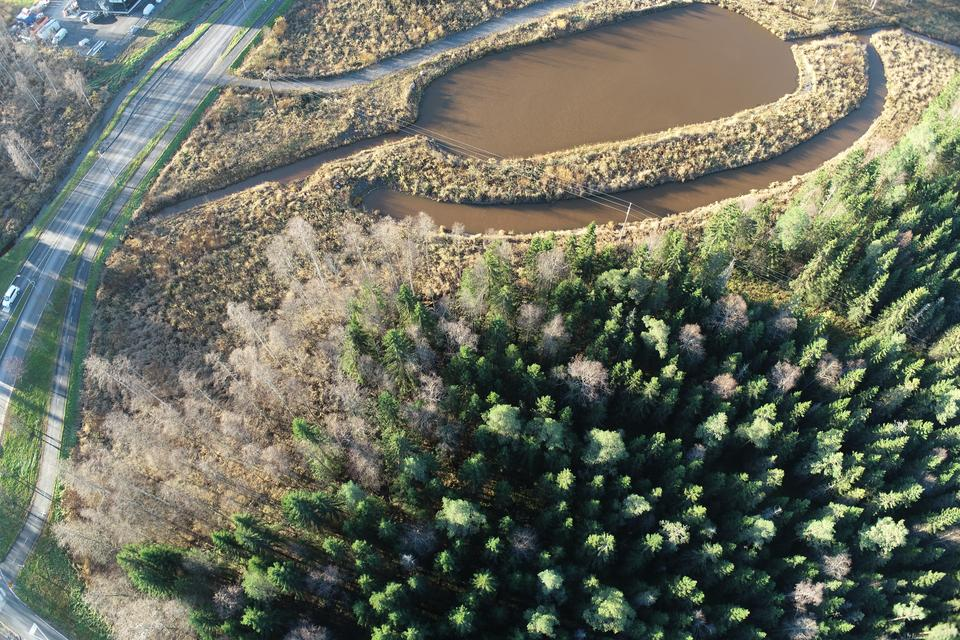intersection: (113, 41, 271, 106), (0, 523, 50, 640)
